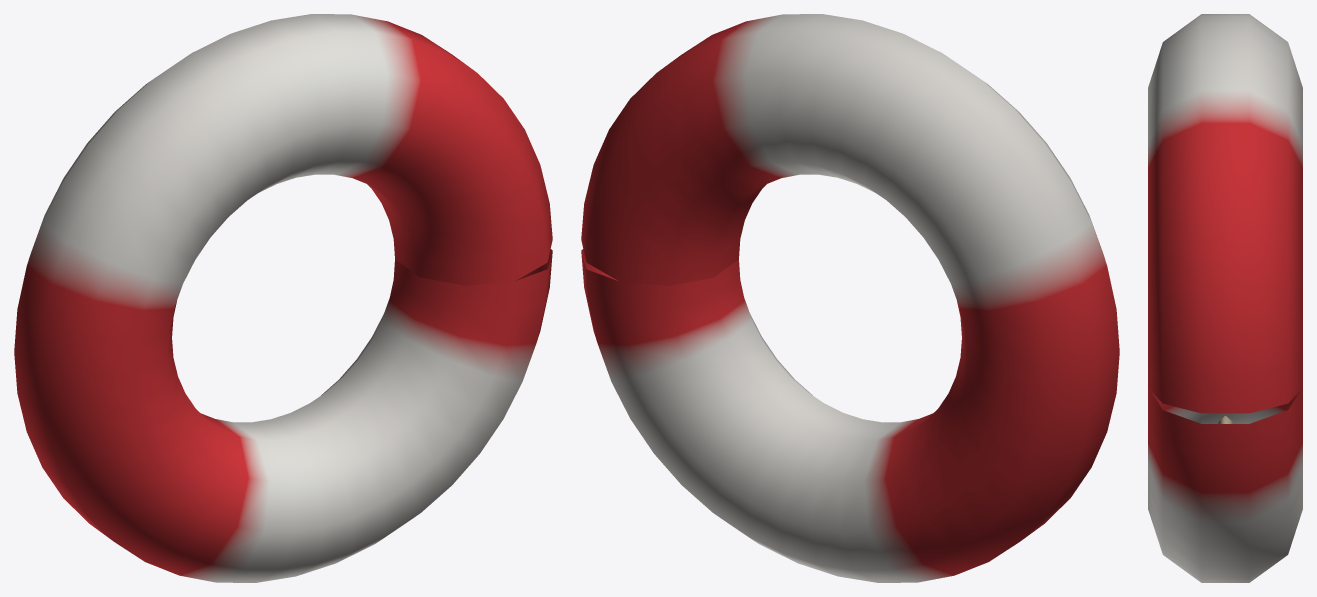
The model's file is furn_lh_lifering.glb.
3 renders of one model, left to right at view 1: azimuth 30°, elevation 25°; view 2: azimuth 150°, elevation 25°; view 3: azimuth 270°, elevation 25°, orthographic. The views are drawn at different scales.
Visible parts, largest first — view 1: furn_lh_lifering_main; view 2: furn_lh_lifering_main; view 3: furn_lh_lifering_main.
Boxes of the visible parts, box(x1,y1,x2,y2) form: furn_lh_lifering_main: box(14, 14, 552, 582); furn_lh_lifering_main: box(581, 14, 1119, 582); furn_lh_lifering_main: box(1148, 14, 1302, 582).
Size of the model in its own units: 0.8089 by 0.8092 by 0.22.
